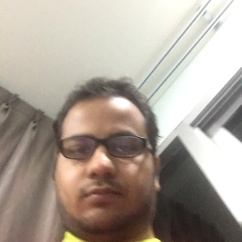glasses: (59, 136, 147, 159)
